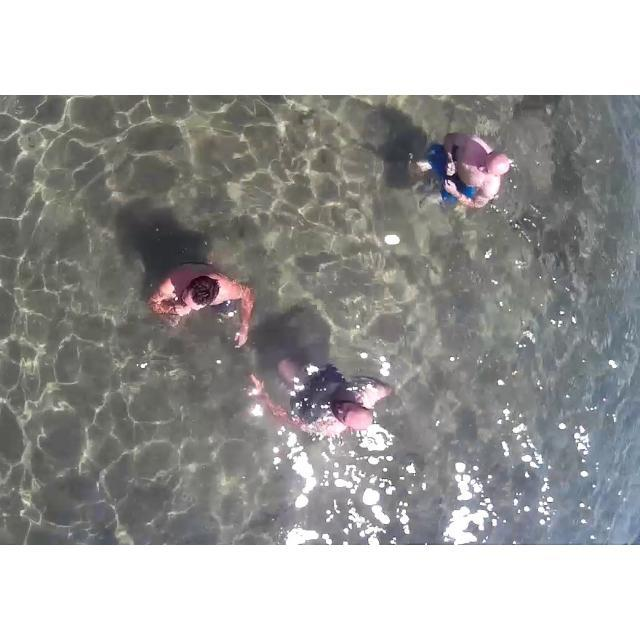human: (261, 347, 391, 447), (153, 240, 254, 357), (409, 122, 511, 219)
